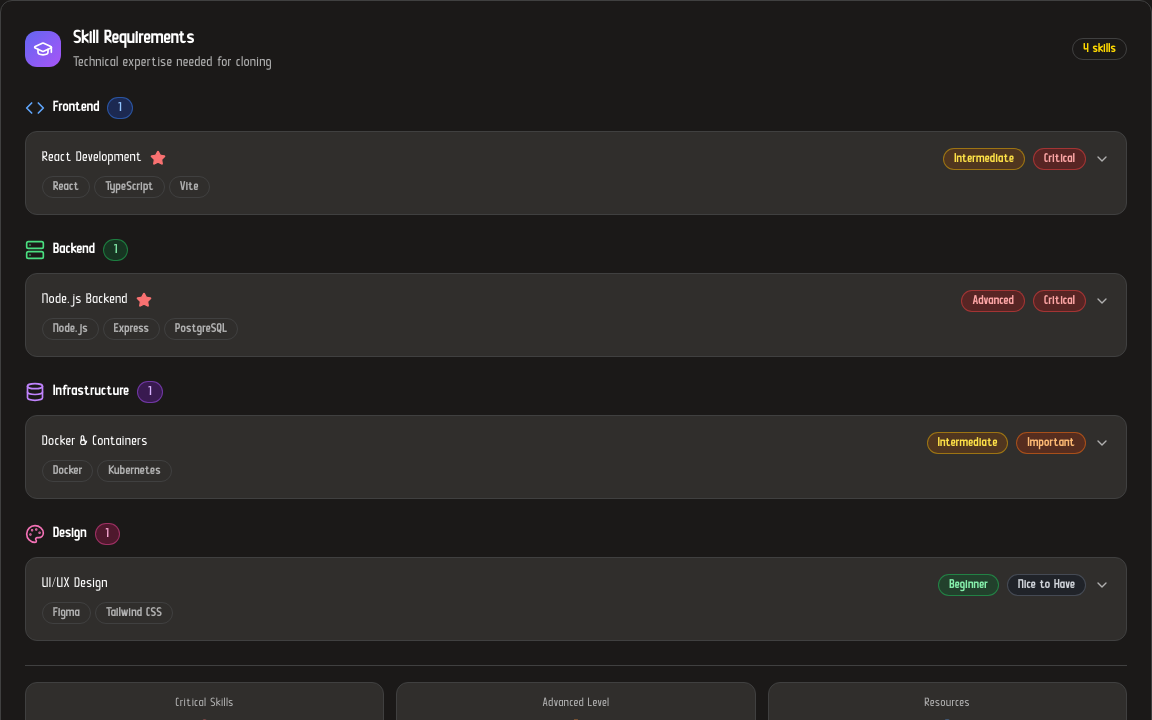
SkillRequirementsSection › displays video resource type
The width and height of the screenshot is (1152, 720).
Click the heading "UI/UX Design".
click(75, 584)  # box [42,574,108,594]
(page scrolled)
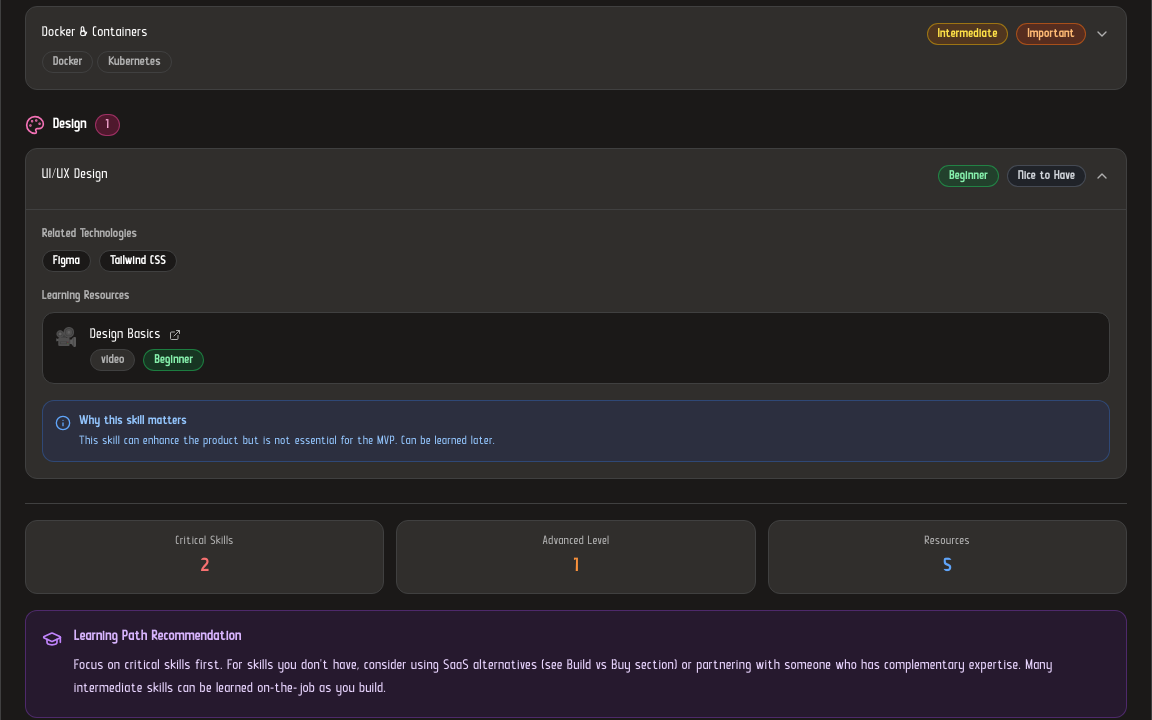
Expected: the text "video" is shown, [90,349,136,371]
